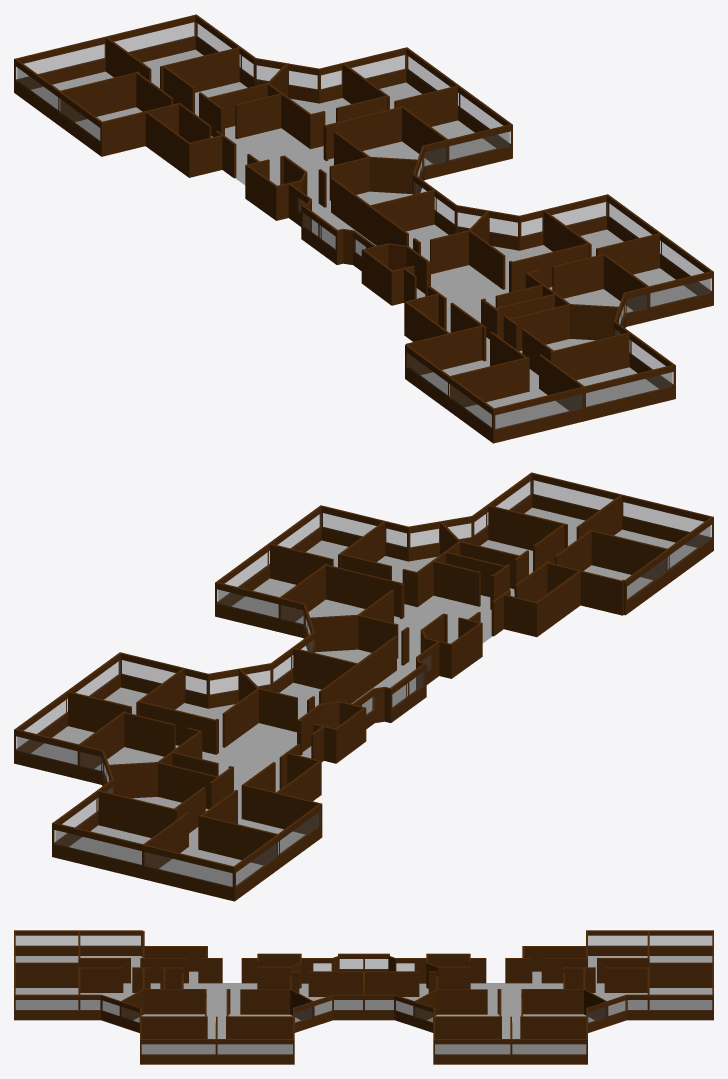
The picture shows the model from 3 angles, top to bottom: view 1: azimuth 30°, elevation 25°; view 2: azimuth 150°, elevation 25°; view 3: azimuth 270°, elevation 25°; orthographic projection. The views are drawn at different scales.
Parts seen in each view (by area): view 1: Plane.024, Plane.005; view 2: Plane.024, Plane.005; view 3: Plane.024, Plane.005.
Boxes of the visible parts, left/top/right/bottom form: Plane.024: left=14, top=14, right=713, bottom=443; Plane.005: left=31, top=49, right=696, bottom=428; Plane.024: left=14, top=472, right=713, bottom=901; Plane.005: left=31, top=507, right=696, bottom=886; Plane.024: left=14, top=930, right=713, bottom=1064; Plane.005: left=15, top=956, right=712, bottom=1054.
Bounding box in the file's own units: 28.5 × 3 × 77.08.
